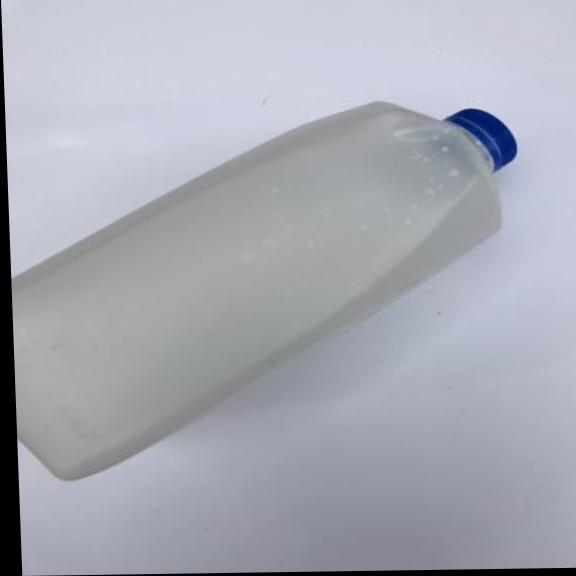Plastik: (9, 82, 537, 489)
